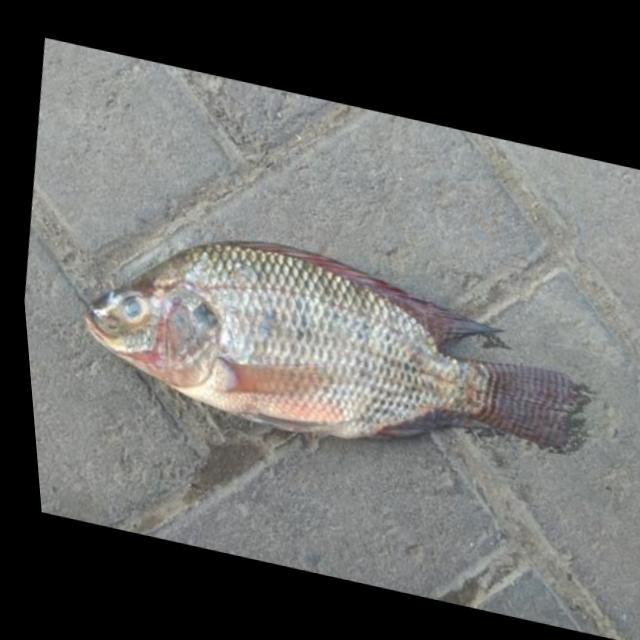Tilapia: (59, 194, 599, 493)
